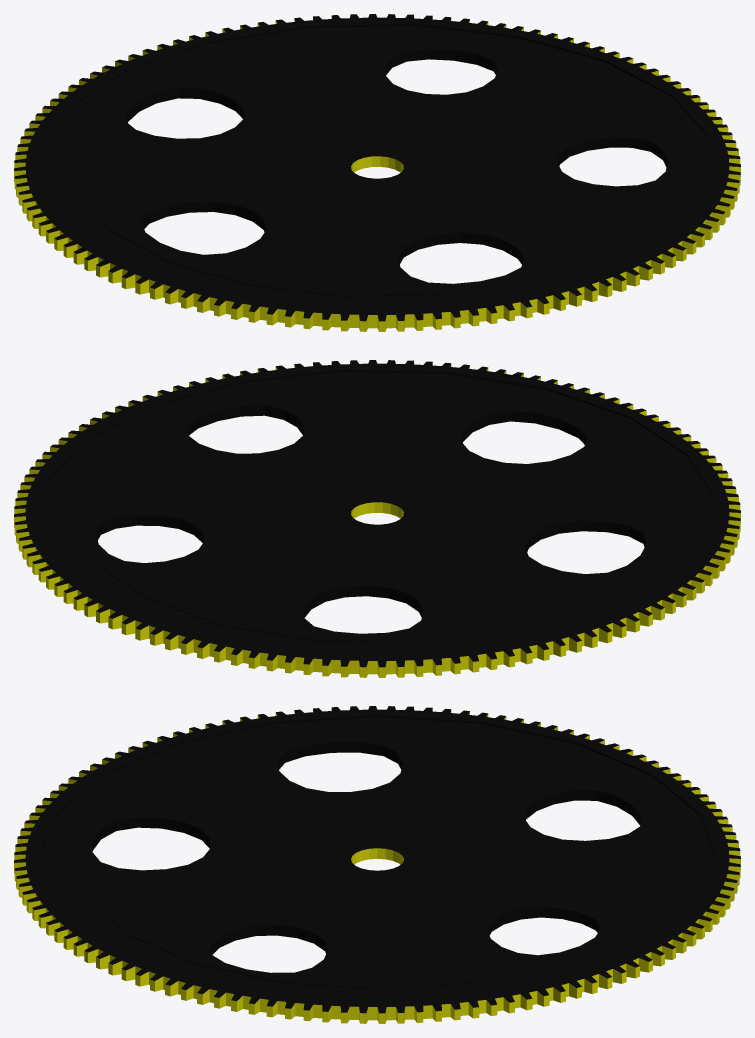
The model's file is D12GearV3.fbx.
The picture shows the model from 3 angles, top to bottom: view 1: azimuth 30°, elevation 25°; view 2: azimuth 150°, elevation 25°; view 3: azimuth 270°, elevation 25°; orthographic projection.
Parts seen in each view (by area): view 1: D12GearV3; view 2: D12GearV3; view 3: D12GearV3.
Part boxes in pixels (left/top/right/bottom): D12GearV3: left=14, top=14, right=740, bottom=331; D12GearV3: left=14, top=360, right=740, bottom=677; D12GearV3: left=14, top=706, right=740, bottom=1023.
Size of the model in its own units: 24.8 by 0.5 by 24.8.
